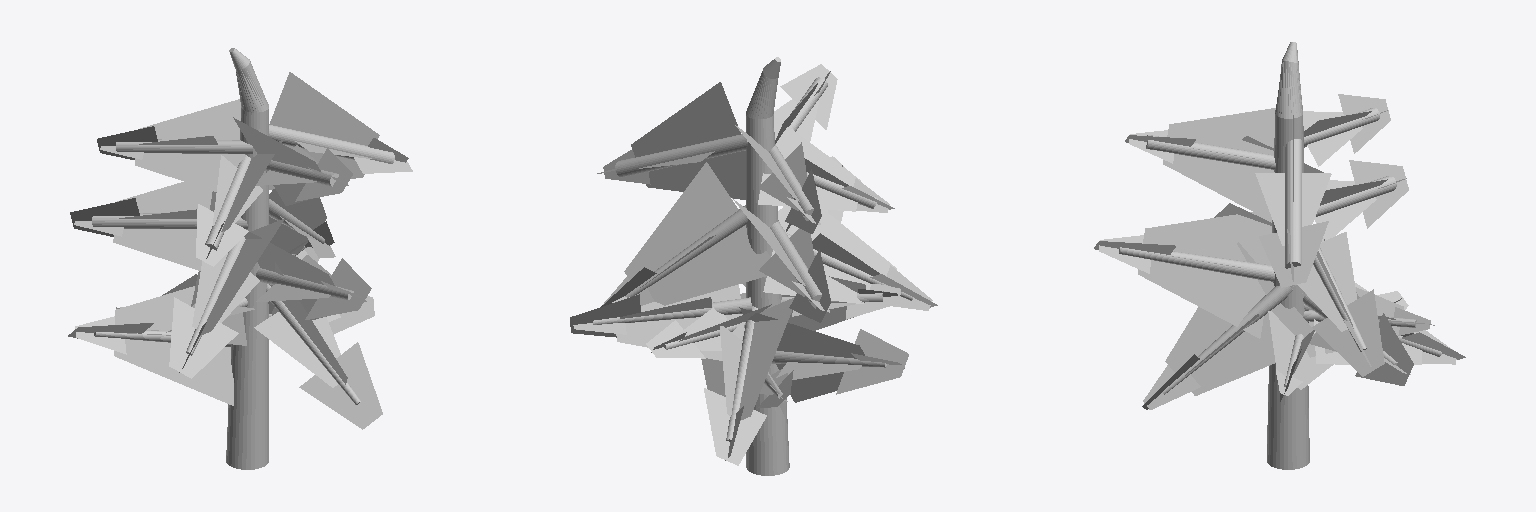
The model's file is tree.obj.
The picture shows the model from 3 angles: view 1: azimuth 30°, elevation 25°; view 2: azimuth 150°, elevation 25°; view 3: azimuth 270°, elevation 25°; orthographic projection.
Visible parts, largest first — view 1: Cylinder.011; view 2: Cylinder.011; view 3: Cylinder.011.
Part boxes in pixels (x1,y1,x2,y2): Cylinder.011: (68,48,412,469); Cylinder.011: (570,57,937,475); Cylinder.011: (1094,42,1465,469).
Bounding box in the file's own units: 9.95 × 12.22 × 10.